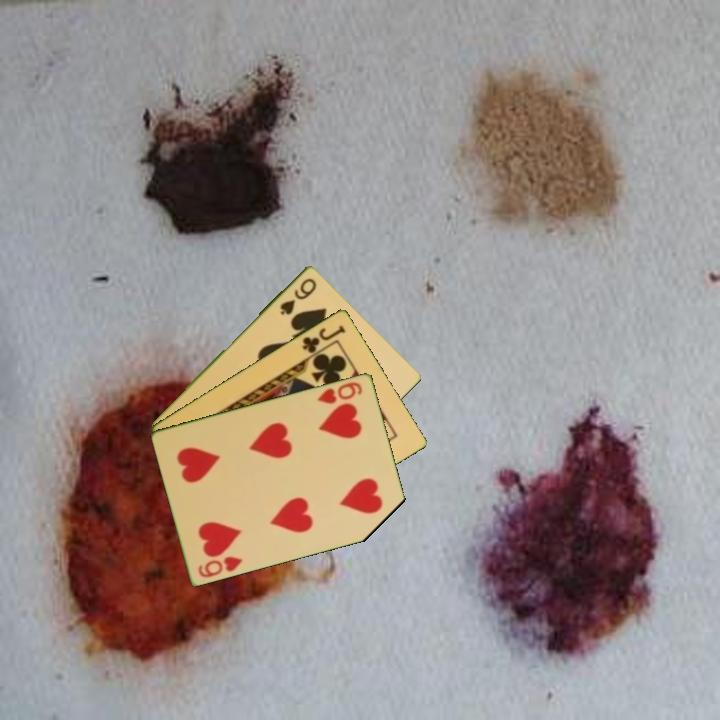6h: (314, 378, 365, 407), (195, 552, 246, 580)
9s: (276, 274, 319, 318)
Jc: (299, 321, 348, 356)
